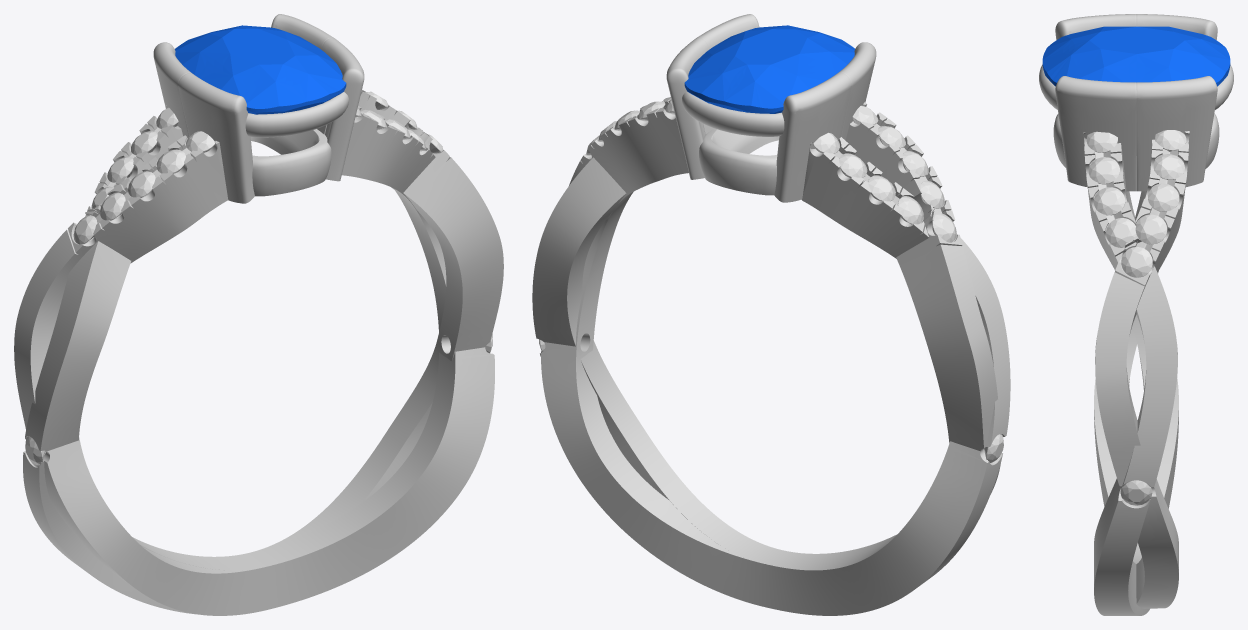
Rendered from bluesapphire-cushion-platinum-halfmoonbezel-twist-sidestones.glb.
3 views of the same model, side by side, from view 1: azimuth 30°, elevation 25°; view 2: azimuth 150°, elevation 25°; view 3: azimuth 270°, elevation 25° (orthographic).
Visible parts, largest first — view 1: metal, stone; view 2: metal, stone; view 3: metal, stone, side.015, side.016, side.012, side.017, side.011, side.013, side.018, side.010, side.014, side.019.
Part boxes in pixels (bbox=[...]): metal: bbox=[14, 14, 503, 615]; stone: bbox=[175, 25, 346, 114]; metal: bbox=[532, 14, 1010, 615]; stone: bbox=[684, 25, 854, 113]; metal: bbox=[1039, 14, 1233, 615]; stone: bbox=[1042, 26, 1230, 86]; side.015: bbox=[1121, 247, 1152, 277]; side.016: bbox=[1135, 214, 1167, 244]; side.012: bbox=[1093, 187, 1125, 215]; side.017: bbox=[1148, 183, 1179, 211]; side.011: bbox=[1106, 218, 1136, 247]; side.013: bbox=[1088, 157, 1119, 184]; side.018: bbox=[1153, 154, 1184, 179]; side.010: bbox=[1120, 480, 1152, 505]; side.014: bbox=[1086, 131, 1117, 152]; side.019: bbox=[1155, 130, 1186, 150].
Bounding box in the file's own units: 19.97 × 23.03 × 7.42.
